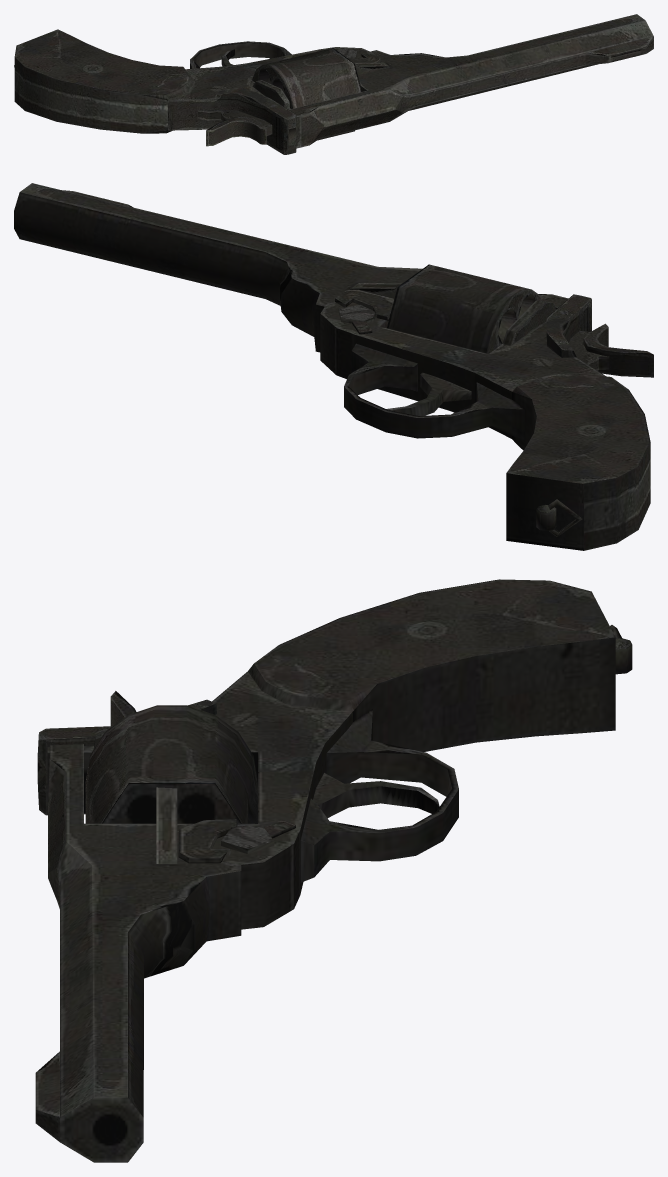
The model's file is weapon_webley.glb.
The picture shows the model from 3 angles, top to bottom: view 1: azimuth 30°, elevation 25°; view 2: azimuth 150°, elevation 25°; view 3: azimuth 270°, elevation 25°; orthographic projection. The views are drawn at different scales.
Bounding box in the file's own units: 12.76 × 1.82 × 6.35.
1 material, 1 textured.
